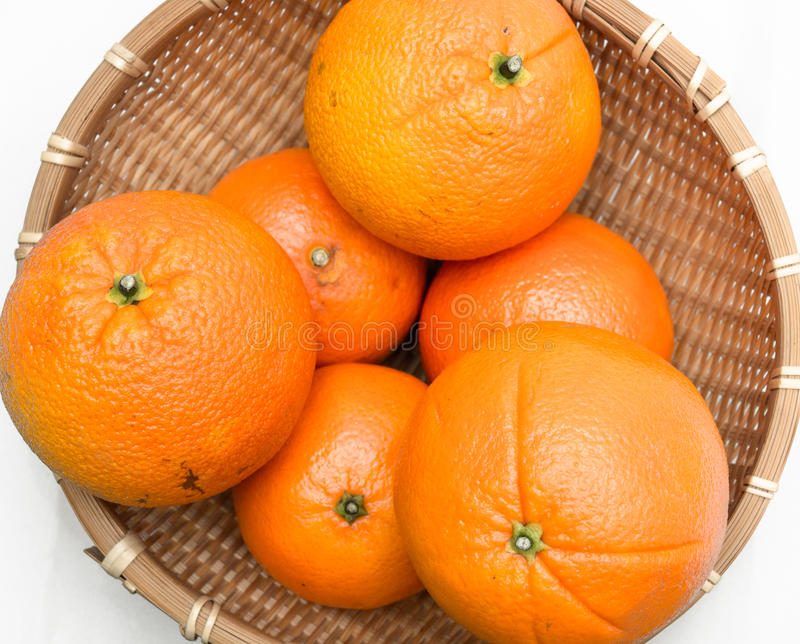Orange: (394, 322, 730, 644), (1, 190, 319, 508), (304, 1, 602, 261)
